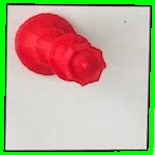Red Queen: (10, 8, 109, 92)
